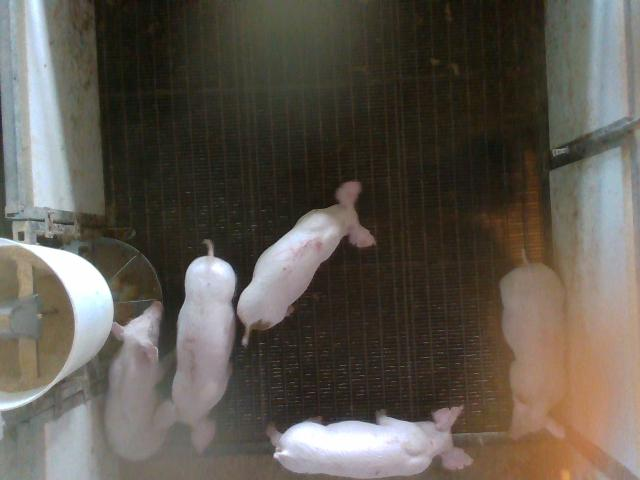pig-3: (149, 240, 236, 454)
pig-5: (238, 181, 375, 344)
